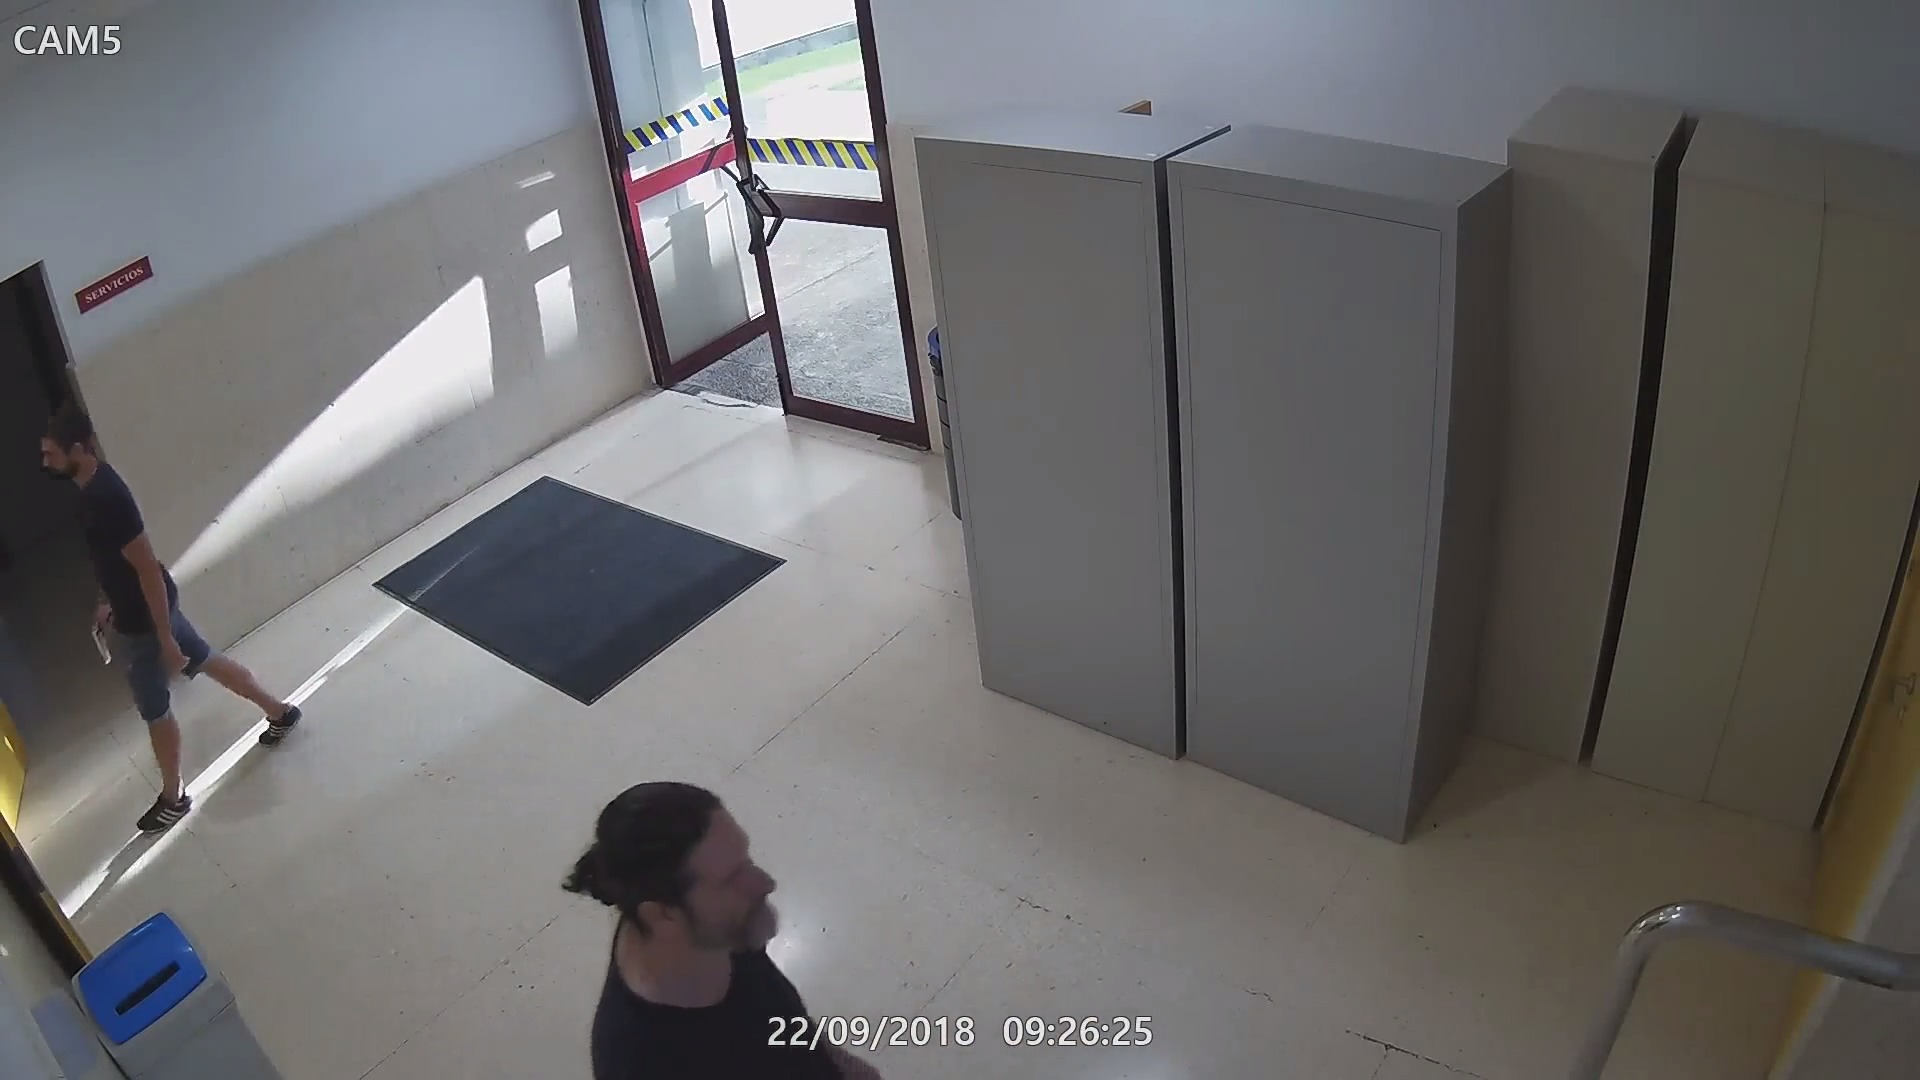Handgun: (84, 601, 121, 671)
